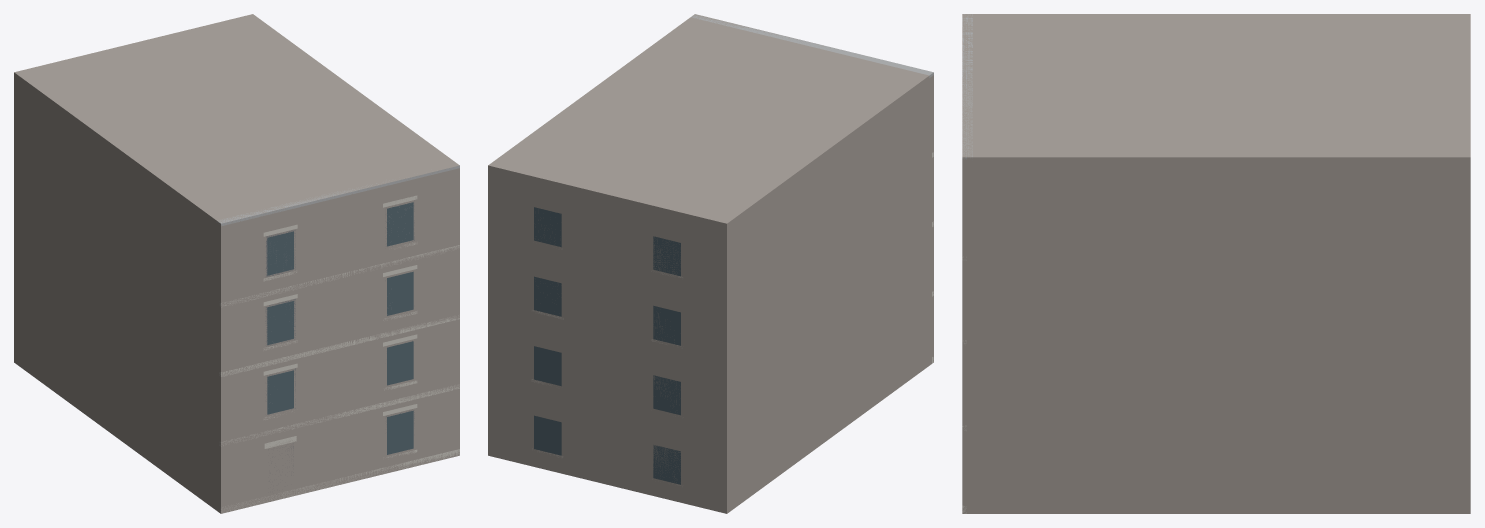
File: terrace_v2.glb
The picture shows the model from 3 angles, left to right: view 1: azimuth 30°, elevation 25°; view 2: azimuth 150°, elevation 25°; view 3: azimuth 270°, elevation 25°; orthographic projection. The views are drawn at different scales.
Visible parts, largest first — view 1: terrace_v2; view 2: terrace_v2; view 3: terrace_v2.
Boxes of the visible parts, x1=… form: terrace_v2: x1=14, y1=14, x2=459, y2=513; terrace_v2: x1=488, y1=14, x2=933, y2=513; terrace_v2: x1=962, y1=14, x2=1470, y2=513.
Size of the model in its own units: 11.2 by 13 by 16.8.
